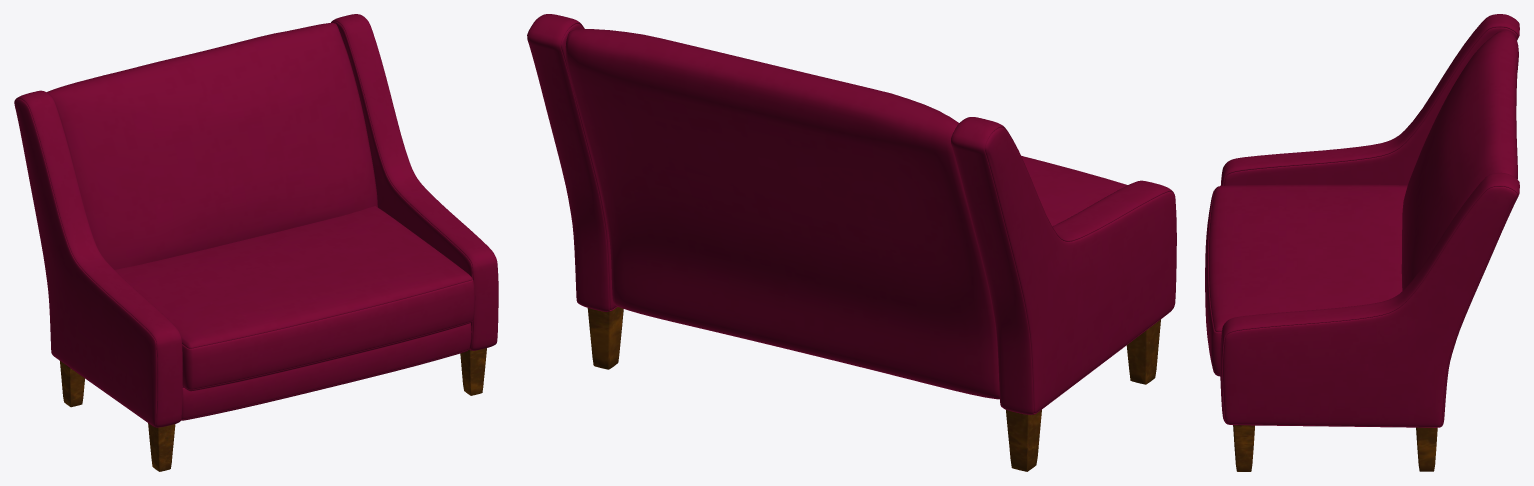
File: sofa_B075X4F5T8.glb
The picture shows the model from 3 angles, left to right: view 1: azimuth 30°, elevation 25°; view 2: azimuth 150°, elevation 25°; view 3: azimuth 270°, elevation 25°; orthographic projection. The views are drawn at different scales.
Visible parts, largest first — view 1: RootNode; view 2: RootNode; view 3: RootNode.
Part boxes in pixels (x1=…): RootNode: x1=14, y1=14, x2=498, y2=471; RootNode: x1=527, y1=14, x2=1176, y2=471; RootNode: x1=1205, y1=14, x2=1519, y2=471.
Bounding box in the file's own units: 1.24 × 0.9765 × 0.9461.
Materials: 1 (1 with a texture image).
